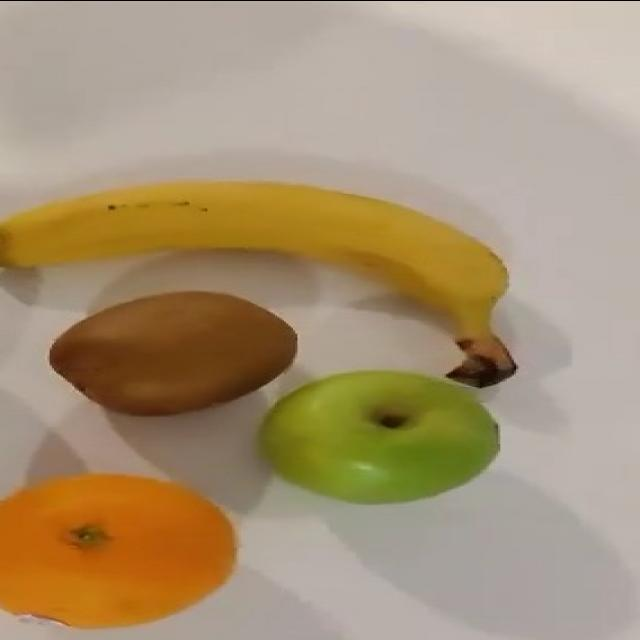Apple: (258, 369, 500, 504)
Banana: (0, 178, 517, 388)
Orange: (0, 471, 237, 629)
